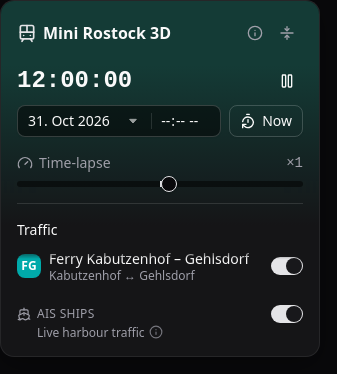
Test: the AIS ships in the control panel › explains behind an info button what the clock does to the ships
This screenshot has width=337, height=374.
Focus the button named "What the clock does to the ships": [156, 332] box [148,325,162,339]
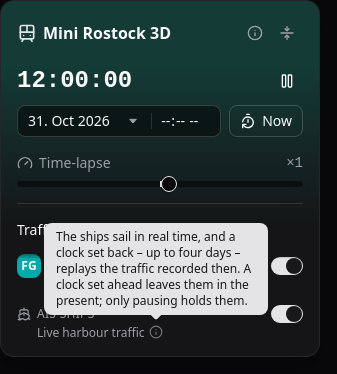
Now the tooltip "sail in real time" shows "only pausing holds them", box [56,228,251,309]
